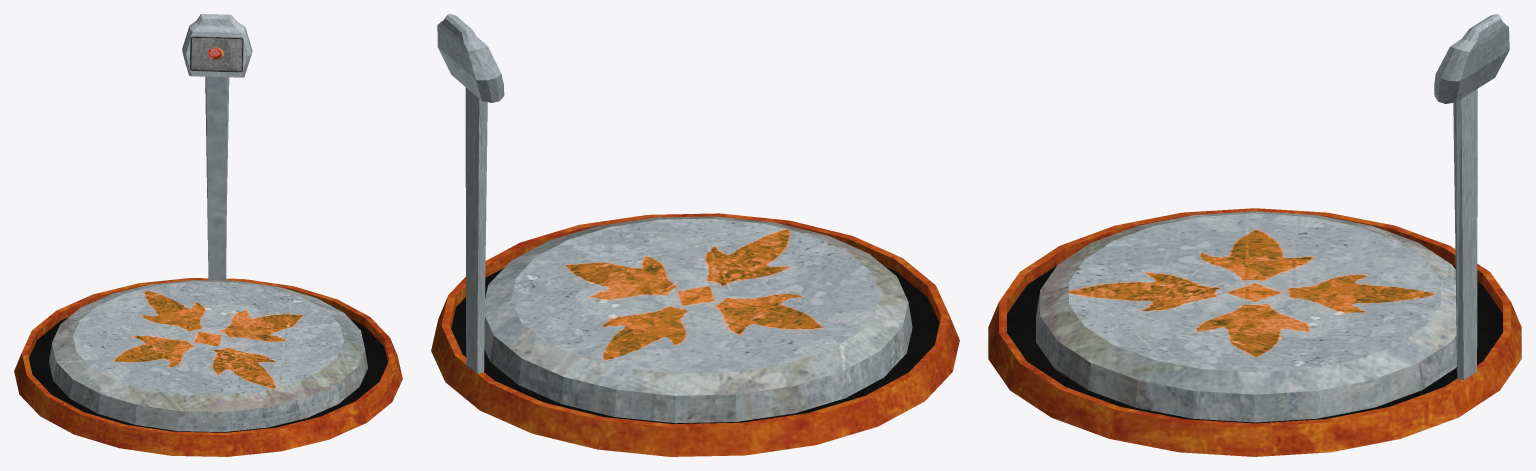
File: Space_GravityPad.FBX
The picture shows the model from 3 angles, left to right: view 1: azimuth 30°, elevation 25°; view 2: azimuth 150°, elevation 25°; view 3: azimuth 270°, elevation 25°; orthographic projection. The views are drawn at different scales.
Visible parts, largest first — view 1: Cylinder001; view 2: Cylinder001; view 3: Cylinder001.
Boxes of the visible parts, bbox=[...] form: Cylinder001: bbox=[14, 14, 402, 456]; Cylinder001: bbox=[431, 14, 959, 456]; Cylinder001: bbox=[988, 14, 1521, 456].
Size of the model in its own units: 4 by 3.14 by 3.96.
